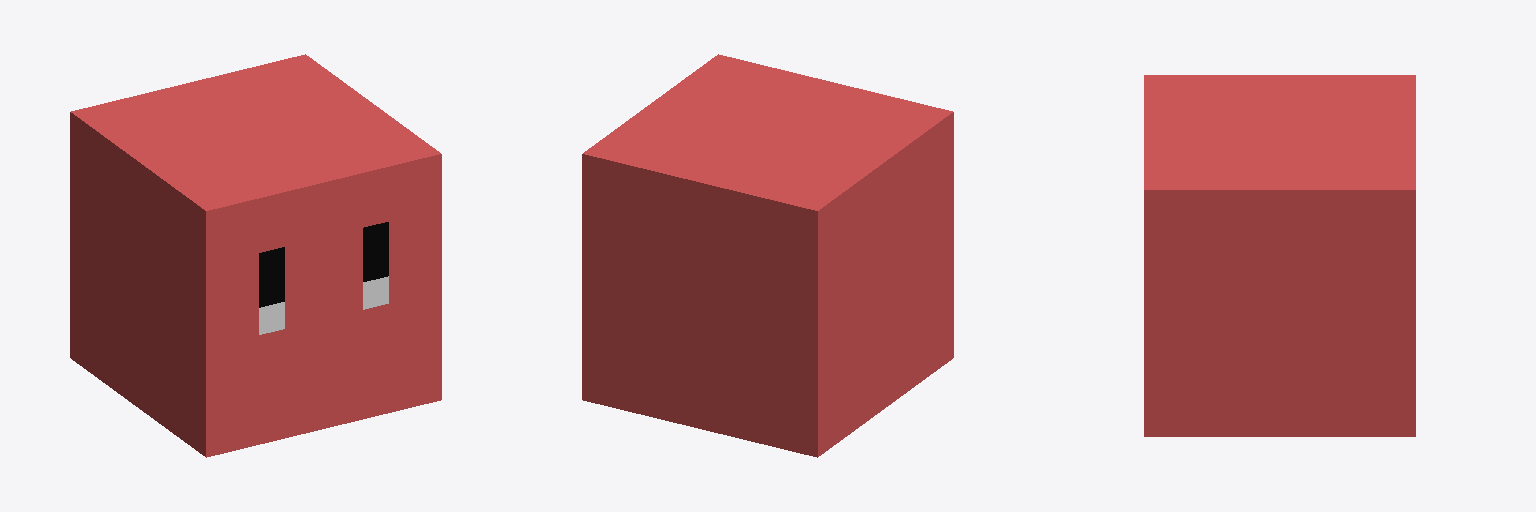
3 renders of one model, left to right at view 1: azimuth 30°, elevation 25°; view 2: azimuth 150°, elevation 25°; view 3: azimuth 270°, elevation 25°, orthographic.
Visible parts, largest first — view 1: object 1; view 2: object 1; view 3: object 1.
Boxes of the visible parts, box(x1,y1,x2,y2) form: object 1: box(70, 54, 441, 457); object 1: box(582, 54, 953, 457); object 1: box(1144, 75, 1415, 436).
Bounding box in the file's own units: 0.9 × 0.9 × 0.9.
Materials: 1 (1 with a texture image).